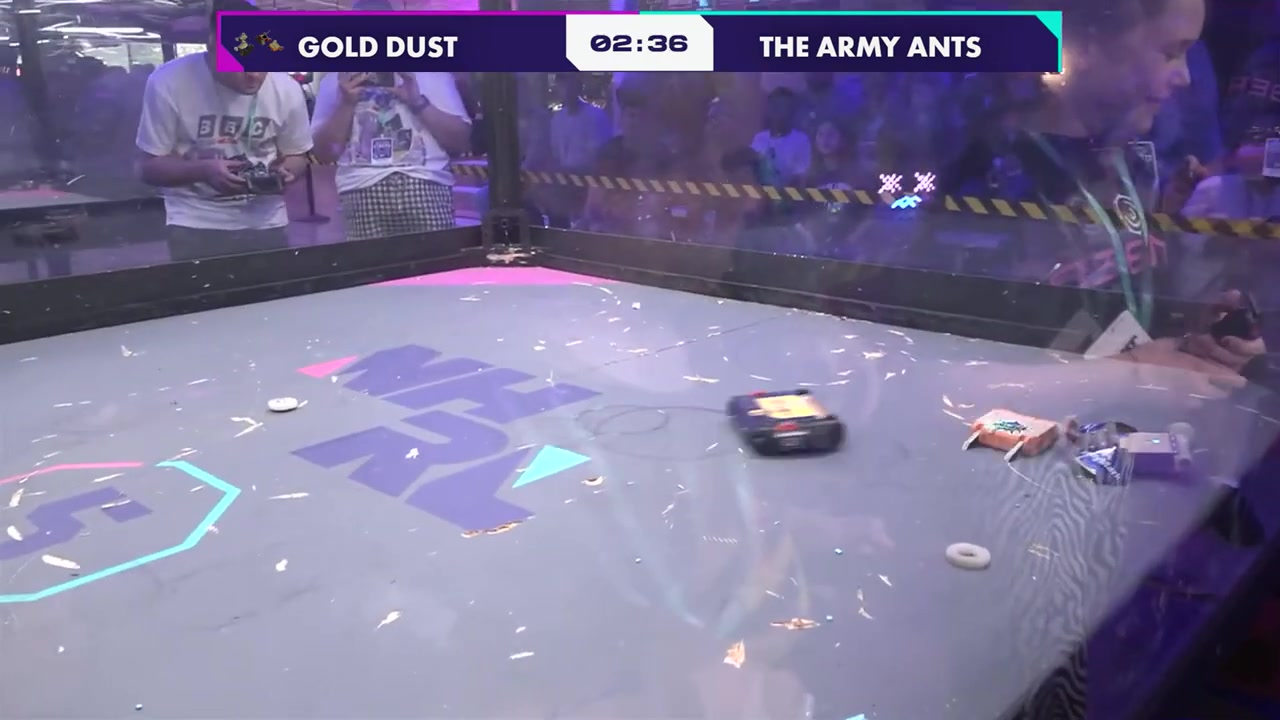combatbot: (1061, 416, 1196, 490), (726, 385, 848, 462)
debris: (945, 542, 989, 571), (267, 393, 305, 413)
minibot: (958, 407, 1061, 466)
